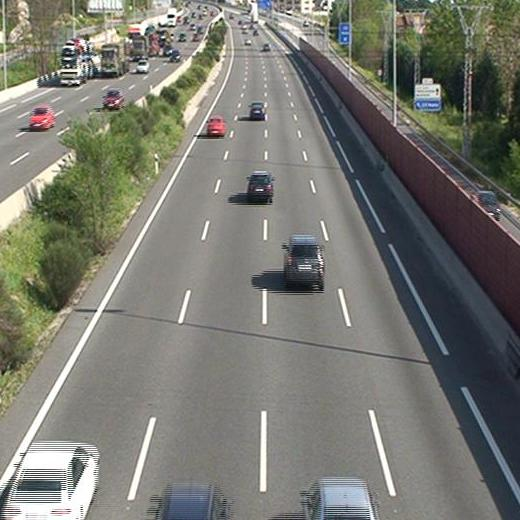car: (1, 443, 98, 520), (284, 235, 323, 283), (247, 171, 273, 200), (206, 116, 225, 137), (250, 102, 266, 119)
